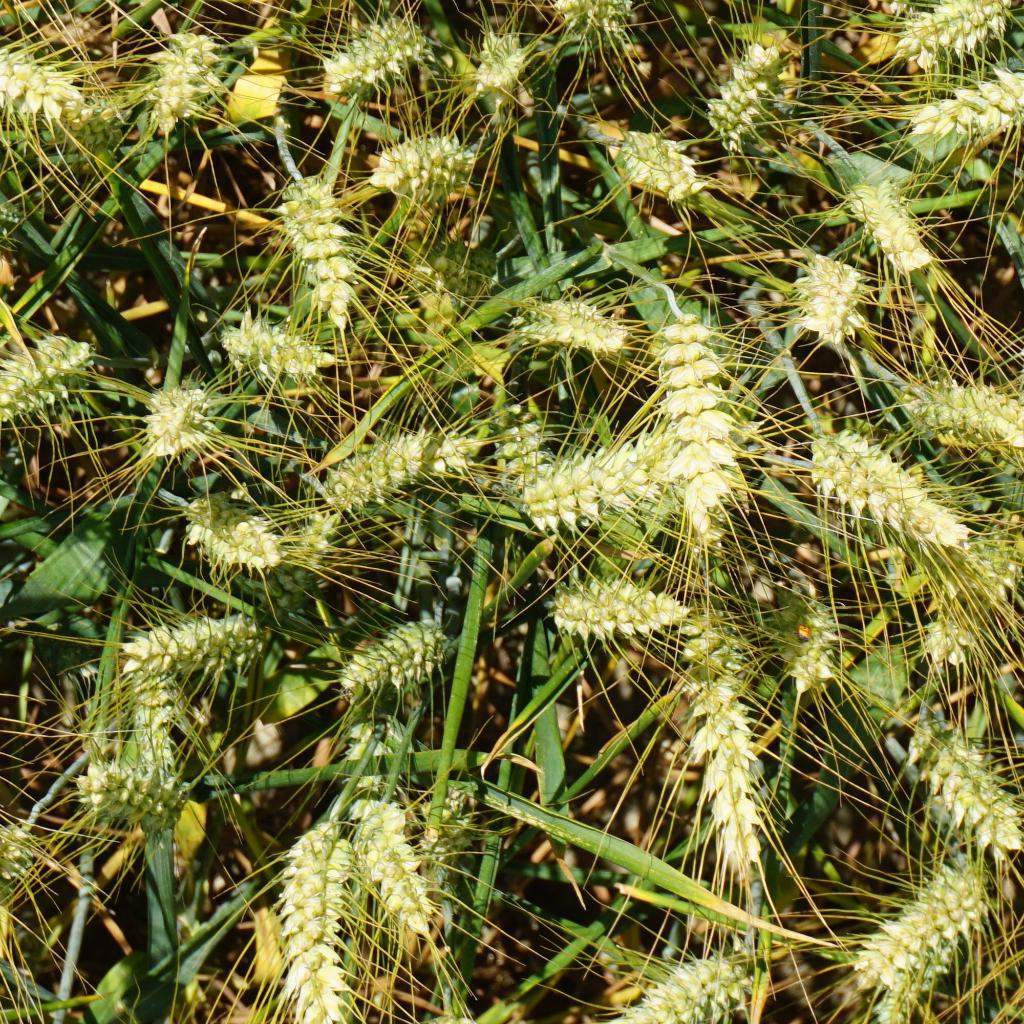0-0: (826, 846, 1015, 1018), (653, 307, 755, 555), (808, 422, 973, 566), (681, 615, 766, 875), (273, 166, 376, 331), (534, 559, 702, 651), (911, 713, 1024, 849), (342, 781, 436, 943), (883, 51, 1024, 154), (775, 224, 872, 371), (311, 427, 472, 509), (693, 30, 794, 158), (0, 329, 111, 435), (100, 600, 267, 668), (0, 17, 96, 131), (935, 538, 1020, 660), (613, 954, 748, 1024), (331, 608, 450, 687), (176, 491, 284, 578), (903, 371, 1024, 448), (358, 115, 465, 201), (488, 401, 567, 516), (845, 174, 941, 266), (133, 17, 212, 125), (73, 756, 189, 829), (132, 376, 220, 465), (216, 312, 329, 381), (541, 444, 655, 512), (516, 284, 622, 355), (419, 776, 493, 875), (323, 9, 423, 81), (616, 125, 701, 200), (122, 663, 183, 763), (893, 0, 1018, 47), (785, 591, 837, 700), (403, 233, 487, 287), (340, 716, 413, 775), (470, 30, 527, 102), (549, 0, 636, 41), (280, 517, 339, 576), (0, 197, 30, 251)
